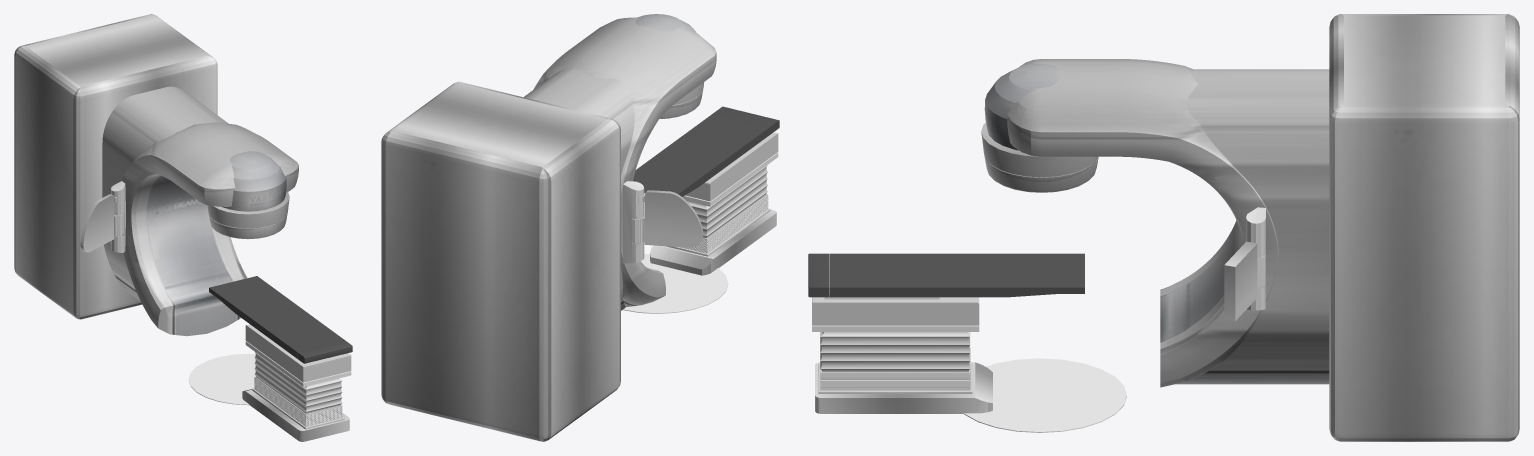
The model's file is LINAC_Varian_TrueBeam+STx_v7.fbx.
The picture shows the model from 3 angles, left to right: view 1: azimuth 30°, elevation 25°; view 2: azimuth 150°, elevation 25°; view 3: azimuth 270°, elevation 25°; orthographic projection. The views are drawn at different scales.
Visible parts, largest first — view 1: FbxMesh (×13); view 2: FbxMesh (×13); view 3: FbxMesh (×13).
Part boxes in pixels (bbox=[...]): FbxMesh (×13): bbox=[14, 14, 352, 441]; FbxMesh (×13): bbox=[381, 14, 779, 441]; FbxMesh (×13): bbox=[808, 14, 1519, 441].
Bounding box in the file's own units: 92.93 × 102 × 196.
5 materials, 2 textured.
